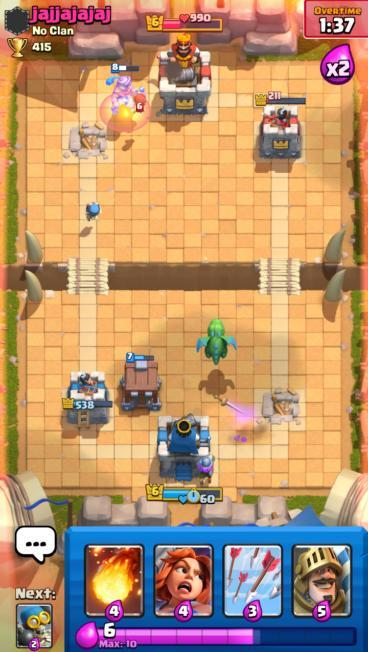ally_baby_dragon: (194, 318, 239, 367)
ally_bomber: (83, 201, 103, 223)
ally_goblin_cage: (115, 351, 166, 413)
ally_prince: (104, 59, 144, 124)
enemy_bomber: (126, 91, 155, 127)
